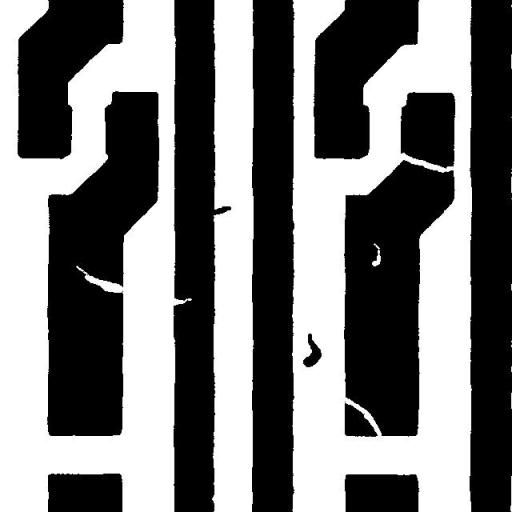copper: (295, 326, 329, 374)
mousebite: (68, 258, 131, 300), (163, 290, 199, 313)
open: (333, 388, 389, 444), (392, 145, 462, 180)
pin-hole: (364, 235, 388, 274)
spur: (202, 198, 238, 222)
